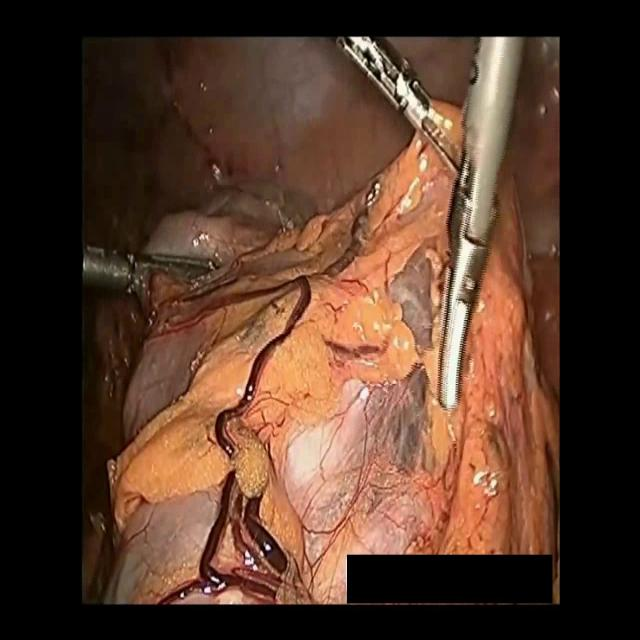surgical-area: (80, 36, 560, 604), (374, 36, 483, 157)
surgical-tool: (327, 36, 530, 416)
